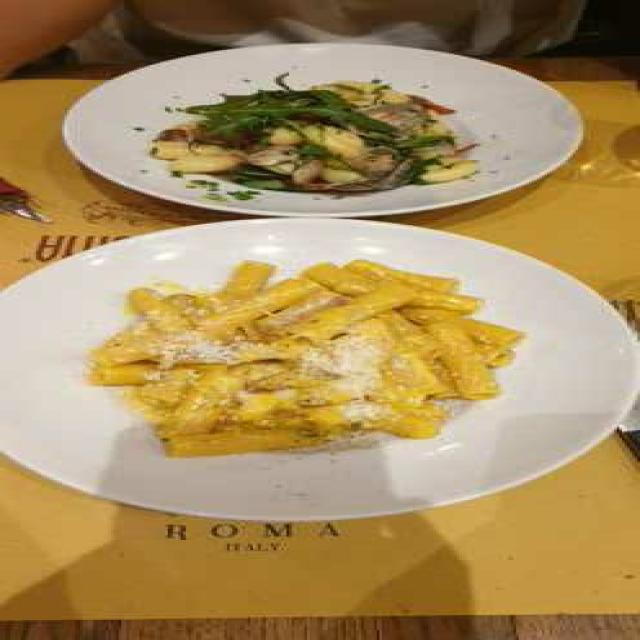Plate: (0, 216, 637, 521), (59, 41, 586, 218)
